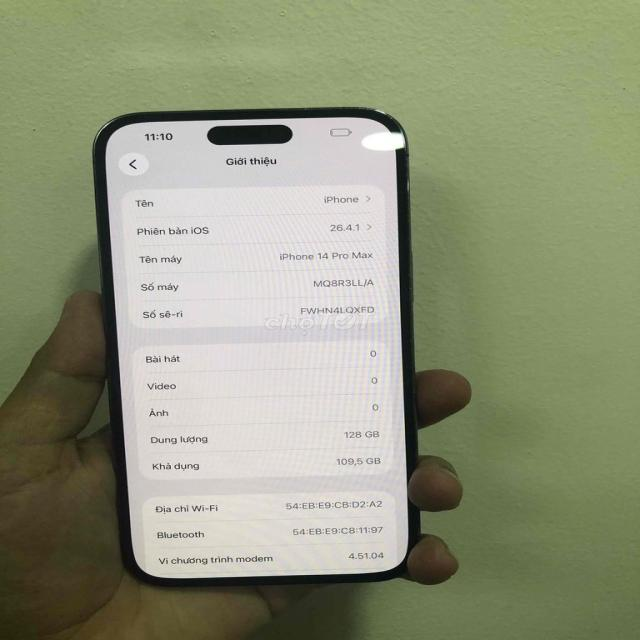gen_14: (92, 97, 440, 597)
